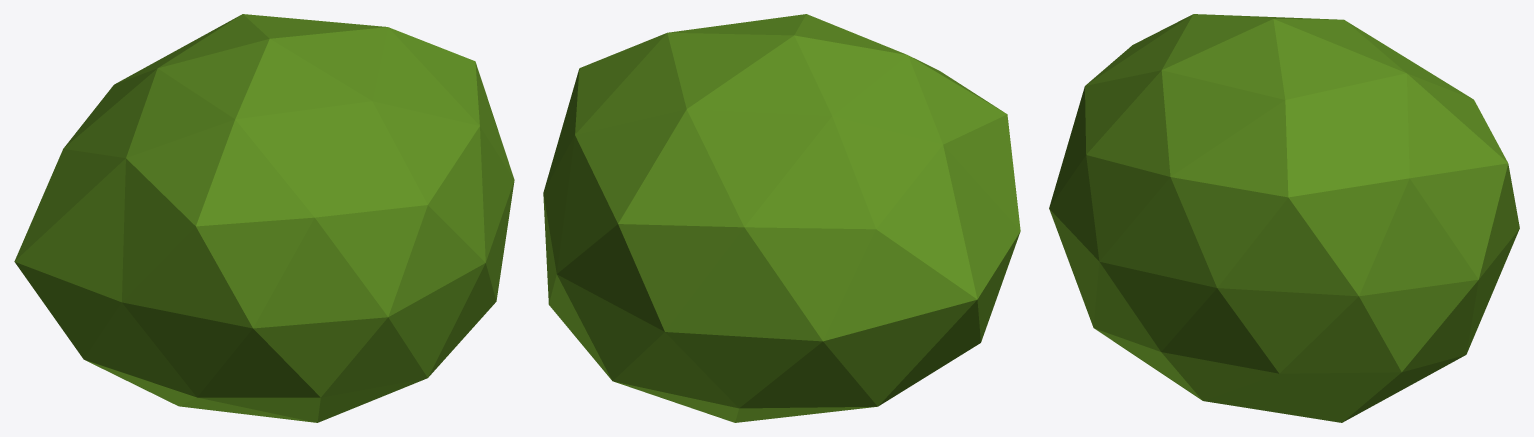
File: cust4.fbx
3 views of the same model, side by side, from view 1: azimuth 30°, elevation 25°; view 2: azimuth 150°, elevation 25°; view 3: azimuth 270°, elevation 25° (orthographic). The views are drawn at different scales.
Visible parts, largest first — view 1: Icosphere.010; view 2: Icosphere.010; view 3: Icosphere.010.
Boxes of the visible parts, x1=… form: Icosphere.010: x1=14, y1=14, x2=514, y2=422; Icosphere.010: x1=543, y1=14, x2=1020, y2=422; Icosphere.010: x1=1049, y1=14, x2=1519, y2=422.
Size of the model in its own units: 124 by 97.61 by 119.
